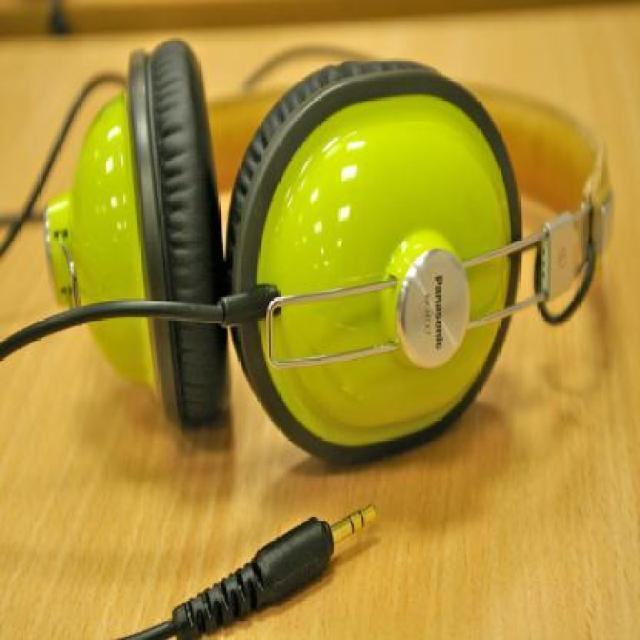earphone: (37, 19, 630, 444)
